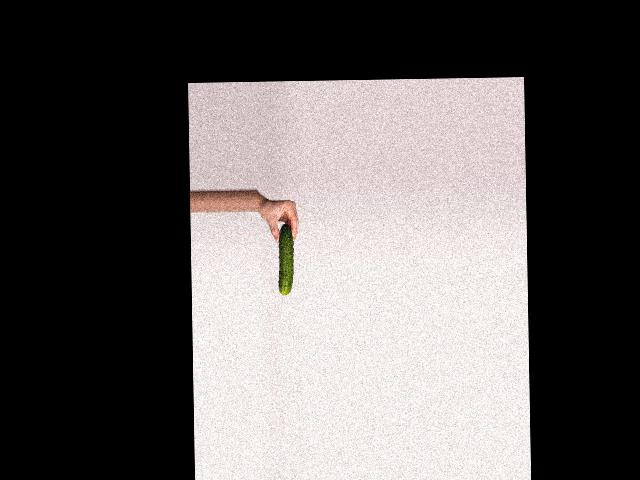cucumber: (278, 223, 294, 294)
